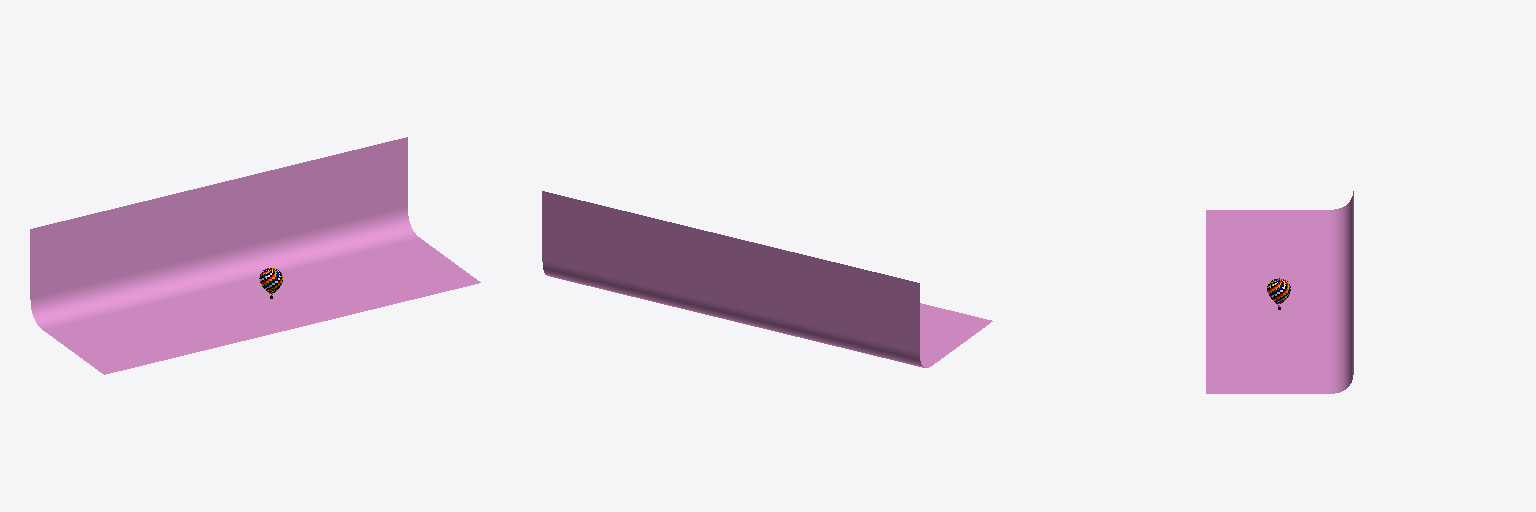
File: balloon_obj.obj
The picture shows the model from 3 angles: view 1: azimuth 30°, elevation 25°; view 2: azimuth 150°, elevation 25°; view 3: azimuth 270°, elevation 25°; orthographic projection.
Visible parts, largest first — view 1: Plane001; view 2: Plane001; view 3: Plane001.
Boxes of the visible parts, box(x1,y1,x2,y2) form: Plane001: box(30, 137, 480, 374); Plane001: box(542, 191, 992, 367); Plane001: box(1206, 191, 1353, 393).
Size of the model in its own units: 4781 by 1113 by 1619.